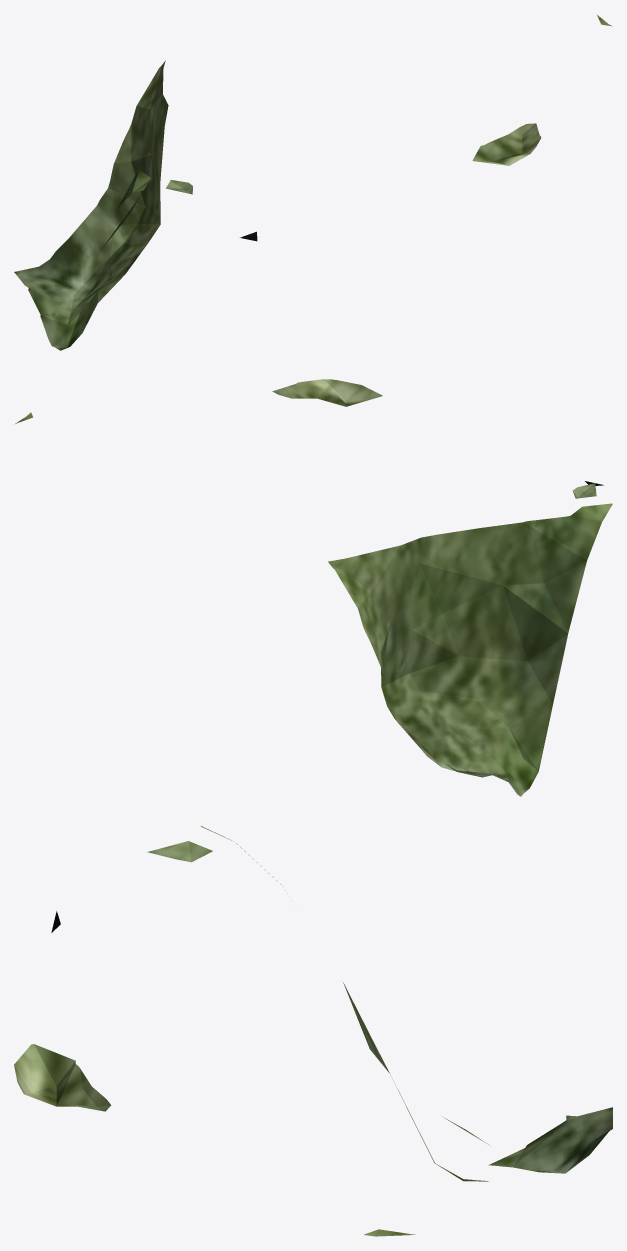
3 renders of one model, top to bottom at view 1: azimuth 30°, elevation 25°; view 2: azimuth 150°, elevation 25°; view 3: azimuth 270°, elevation 25°, orthographic. The views are drawn at different scales.
Bounding box in the file's own units: 2.95 × 1.2 × 1.82.
Materials: 1 (1 with a texture image).
